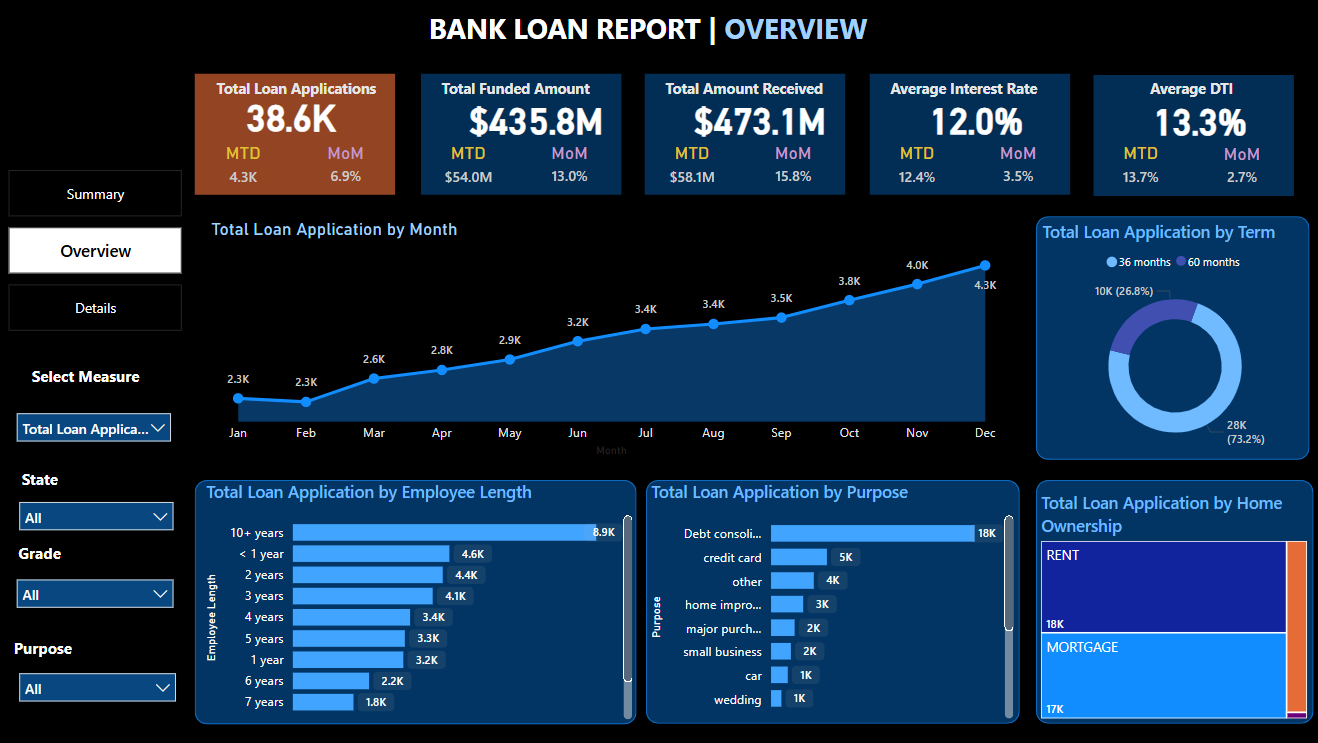

Layout of this report page (visuals, bound fields, positions):
{"tool":"powerbi","page":{"name":"Overview","canvas":[1280,720],"ordinal":1},"visuals":[{"type":"shape","box":[0,55.5,194.2,664.5],"z":0},{"type":"shape","box":[410.2,71.3,193.7,117],"z":0,"group":"g3"},{"type":"shape","box":[626.7,71.3,193.7,117],"z":0,"group":"g4"},{"type":"shape","box":[843.2,71.3,193.7,117],"z":0,"group":"g5"},{"type":"shape","box":[192.3,71.4,193.7,117],"z":0,"group":"g1"},{"type":"shape","box":[1059.7,71.9,193.7,117],"z":0,"group":"g6"},{"type":"shape","box":[0,0,1280.3,55],"z":1000},{"type":"card","fields":{"Values":["bank_loan_data.Total Loan Application"]},"box":[228.8,76.7,113.6,69.9],"z":1000,"group":"g1"},{"type":"card","fields":{"Values":["bank_loan_data.Total Funded Amount"]},"box":[447.1,82,147.9,64.6],"z":1000,"group":"g3"},{"type":"card","fields":{"Values":["bank_loan_data.Total Amount Received"]},"box":[663.6,82,147.9,64.6],"z":1000,"group":"g4"},{"type":"card","fields":{"Values":["bank_loan_data.Avg Interest Rate"]},"box":[872.1,82.5,147.9,64.6],"z":1000,"group":"g5"},{"type":"card","fields":{"Values":["bank_loan_data.Avg DTI"]},"box":[1088.6,83.1,147.9,64.6],"z":1000,"group":"g6"},{"type":"textbox","box":[204.7,71.3,197.8,40.3],"z":2000,"group":"g1"},{"type":"textbox","box":[420.9,71.3,197.8,40.3],"z":2000,"group":"g3"},{"type":"textbox","box":[637.4,71.3,197.8,40.3],"z":2000,"group":"g4"},{"type":"textbox","box":[853.9,71.3,197.8,40.3],"z":2000,"group":"g5"},{"type":"textbox","box":[1070.1,71.3,169.4,40.3],"z":2000,"group":"g6"},{"type":"textbox","box":[21.7,347.3,136.3,41],"z":2000,"group":"g8"},{"type":"textbox","box":[12.1,447.4,95.3,31.4],"z":2000,"group":"g7"},{"type":"textbox","box":[12.1,517.4,83.2,31.4],"z":2000},{"type":"card","title":"MTD","fields":{"Values":["bank_loan_data.MTD Loan Applications"]},"box":[204.7,137.2,69.5,51.1],"z":3000,"group":"g1"},{"type":"card","title":"MTD","fields":{"Values":["bank_loan_data.MTD Funded Applications"]},"box":[420.9,137.2,69.5,51.1],"z":3000,"group":"g3"},{"type":"card","title":"MTD","fields":{"Values":["bank_loan_data.MTD Total Amount Received"]},"box":[637.4,137.2,69.5,51.1],"z":3000,"group":"g4"},{"type":"card","title":"MTD","fields":{"Values":["bank_loan_data.MTD Average Interest Rate"]},"box":[853.9,137.2,69.5,51.1],"z":3000,"group":"g5"},{"type":"card","title":"MTD","fields":{"Values":["bank_loan_data.MTD Average DTI"]},"box":[1070.4,137.8,69.5,51.1],"z":3000,"group":"g6"},{"type":"textbox","box":[9.6,607.8,156.8,31.4],"z":3000},{"type":"group","id":"g1","title":"Group 2","box":[192.3,71.3,210.2,117.1],"z":3005,"group":"g2"},{"type":"card","title":"MoM","fields":{"Values":["bank_loan_data.MoM Loan Applications"]},"box":[303,138.2,69.5,49.8],"z":4000,"group":"g1"},{"type":"card","title":"MoM","fields":{"Values":["bank_loan_data.MoM Total Funded Amount"]},"box":[519.1,138.2,69.5,49.8],"z":4000,"group":"g3"},{"type":"card","title":"MoM","fields":{"Values":["bank_loan_data.MoM Total Amount Received"]},"box":[735.6,138.2,69.5,49.8],"z":4000,"group":"g4"},{"type":"card","title":"MoM","fields":{"Values":["bank_loan_data.MoM Average Interest Rate"]},"box":[952.1,138.2,69.5,49.8],"z":4000,"group":"g5"},{"type":"card","title":"MoM","fields":{"Values":["bank_loan_data.MoM Average DTI"]},"box":[1168.6,138.9,69.5,49.8],"z":4000,"group":"g6"},{"type":"shape","box":[194.3,208.6,400,235],"z":4000},{"type":"esriVisual","fields":{"Size":["bank_loan_data.Total Amount Received"],"Location":["bank_loan_data.address_state"]},"box":[627.1,209.8,359.4,237.6],"z":5000},{"type":"textbox","box":[412.9,4,520.4,45.7],"z":6000},{"type":"group","id":"g2","title":"Group 1","box":[192.3,71.3,210.2,117.1],"z":7000},{"type":"group","id":"g3","title":"Group 2","box":[410.2,71.3,208.4,117],"z":8000},{"type":"group","id":"g4","title":"Group 2","box":[626.7,71.3,208.4,117],"z":9000},{"type":"group","id":"g5","title":"Group 2","box":[843.2,71.3,208.4,117],"z":10000},{"type":"group","id":"g6","title":"Group 2","box":[1059.7,71.3,193.7,117],"z":11000},{"type":"slicer","fields":{"Values":["bank_loan_data.address_state"]},"box":[12.1,474,168.8,43.4],"z":12000},{"type":"slicer","fields":{"Values":["bank_loan_data.grade"]},"box":[9.6,548.7,171.3,44.6],"z":13000},{"type":"slicer","fields":{"Values":["bank_loan_data.Good Vs Bad Loan"]},"box":[12.1,639.2,171.3,44.6],"z":14000},{"type":"group","id":"g7","title":"Group 2","box":[12.1,447.4,95.3,31.4],"z":15000},{"type":"areaChart","fields":{"Y":["bank_loan_data.Total Amount Received"],"Category":["Date Table.Month"]},"box":[202.6,211.1,378.7,235.2],"z":16000},{"type":"slicer","fields":{"Values":["Select Measure.Select Measure"]},"box":[9.6,388.3,168.8,43.4],"z":17000},{"type":"group","id":"g8","title":"Group 2","box":[21.7,347.3,136.3,41],"z":18000},{"type":"shape","box":[618.7,209.8,360.6,235.2],"z":19000},{"type":"shape","box":[1003.4,208.6,264.1,235.2],"z":20000},{"type":"donutChart","fields":{"Y":["bank_loan_data.Total Amount Received"],"Category":["bank_loan_data.term"]},"box":[1004.6,212.3,266.5,232.8],"z":21000},{"type":"shape","box":[191.8,463.1,400.4,235.2],"z":22000},{"type":"barChart","fields":{"Y":["bank_loan_data.Total Amount Received"],"Category":["bank_loan_data.emp_length"]},"box":[197.8,463.1,390.8,235.2],"z":23000},{"type":"shape","box":[627.1,463.1,360.6,235.2],"z":24000},{"type":"barChart","fields":{"Y":["bank_loan_data.Total Amount Received"],"Category":["bank_loan_data.purpose"]},"box":[627.1,463.1,359.4,235.2],"z":25000},{"type":"shape","box":[1003.4,463.1,267.7,235.2],"z":26000},{"type":"treemap","fields":{"Values":["bank_loan_data.Total Amount Received"],"Group":["bank_loan_data.home_ownership"]},"box":[1003.4,474,266.5,224.3],"z":27000},{"type":"pageNavigator","box":[12.1,164,168.8,158],"z":28000},{"type":"filledMap","title":"Total Loan Application by Address State","fields":{"Y":["bank_loan_data.Total Amount Received"],"Category":["bank_loan_data.address_state"]},"box":[623.5,219.5,352.2,211.1],"z":29000}]}

Visuals, with their boxes in screenshot pixels (x1, y1, x2, y2), scaled from the page's 1280x720 canvas onto the 1318x743 screenshot:
shape: pyautogui.locateOnScreen(0, 57, 200, 742)
shape: pyautogui.locateOnScreen(422, 74, 622, 194)
shape: pyautogui.locateOnScreen(645, 74, 845, 194)
shape: pyautogui.locateOnScreen(868, 74, 1068, 194)
shape: pyautogui.locateOnScreen(198, 74, 397, 194)
shape: pyautogui.locateOnScreen(1091, 74, 1291, 195)
shape: pyautogui.locateOnScreen(0, 0, 1317, 57)
card - bank_loan_data.Total Loan Application: pyautogui.locateOnScreen(236, 79, 353, 151)
card - bank_loan_data.Total Funded Amount: pyautogui.locateOnScreen(460, 85, 613, 151)
card - bank_loan_data.Total Amount Received: pyautogui.locateOnScreen(683, 85, 836, 151)
card - bank_loan_data.Avg Interest Rate: pyautogui.locateOnScreen(898, 85, 1050, 152)
card - bank_loan_data.Avg DTI: pyautogui.locateOnScreen(1121, 86, 1273, 152)
textbox: pyautogui.locateOnScreen(211, 74, 414, 115)
textbox: pyautogui.locateOnScreen(433, 74, 637, 115)
textbox: pyautogui.locateOnScreen(656, 74, 860, 115)
textbox: pyautogui.locateOnScreen(879, 74, 1083, 115)
textbox: pyautogui.locateOnScreen(1102, 74, 1276, 115)
textbox: pyautogui.locateOnScreen(22, 358, 163, 401)
textbox: pyautogui.locateOnScreen(12, 462, 111, 494)
textbox: pyautogui.locateOnScreen(12, 534, 98, 566)
"MTD" card: pyautogui.locateOnScreen(211, 142, 282, 194)
"MTD" card: pyautogui.locateOnScreen(433, 142, 505, 194)
"MTD" card: pyautogui.locateOnScreen(656, 142, 728, 194)
"MTD" card: pyautogui.locateOnScreen(879, 142, 951, 194)
"MTD" card: pyautogui.locateOnScreen(1102, 142, 1174, 195)
textbox: pyautogui.locateOnScreen(10, 627, 171, 660)
"Group 2" group: pyautogui.locateOnScreen(198, 74, 414, 194)
"MoM" card: pyautogui.locateOnScreen(312, 143, 384, 194)
"MoM" card: pyautogui.locateOnScreen(535, 143, 606, 194)
"MoM" card: pyautogui.locateOnScreen(757, 143, 829, 194)
"MoM" card: pyautogui.locateOnScreen(980, 143, 1052, 194)
"MoM" card: pyautogui.locateOnScreen(1203, 143, 1275, 195)
shape: pyautogui.locateOnScreen(200, 215, 612, 458)
esriVisual - bank_loan_data.Total Amount Received x bank_loan_data.address_state: pyautogui.locateOnScreen(646, 217, 1016, 462)
textbox: pyautogui.locateOnScreen(425, 4, 961, 51)
"Group 1" group: pyautogui.locateOnScreen(198, 74, 414, 194)
"Group 2" group: pyautogui.locateOnScreen(422, 74, 637, 194)
"Group 2" group: pyautogui.locateOnScreen(645, 74, 860, 194)
"Group 2" group: pyautogui.locateOnScreen(868, 74, 1083, 194)
"Group 2" group: pyautogui.locateOnScreen(1091, 74, 1291, 194)
slicer - bank_loan_data.address_state: pyautogui.locateOnScreen(12, 489, 186, 534)
slicer - bank_loan_data.grade: pyautogui.locateOnScreen(10, 566, 186, 612)
slicer - bank_loan_data.Good Vs Bad Loan: pyautogui.locateOnScreen(12, 660, 189, 706)
"Group 2" group: pyautogui.locateOnScreen(12, 462, 111, 494)
areaChart - bank_loan_data.Total Amount Received x Date Table.Month: pyautogui.locateOnScreen(209, 218, 599, 461)
slicer - Select Measure.Select Measure: pyautogui.locateOnScreen(10, 401, 184, 445)
"Group 2" group: pyautogui.locateOnScreen(22, 358, 163, 401)
shape: pyautogui.locateOnScreen(637, 217, 1008, 459)
shape: pyautogui.locateOnScreen(1033, 215, 1305, 458)
donutChart - bank_loan_data.Total Amount Received x bank_loan_data.term: pyautogui.locateOnScreen(1034, 219, 1309, 459)
shape: pyautogui.locateOnScreen(197, 478, 610, 721)
barChart - bank_loan_data.Total Amount Received x bank_loan_data.emp_length: pyautogui.locateOnScreen(204, 478, 606, 721)
shape: pyautogui.locateOnScreen(646, 478, 1017, 721)
barChart - bank_loan_data.Total Amount Received x bank_loan_data.purpose: pyautogui.locateOnScreen(646, 478, 1016, 721)
shape: pyautogui.locateOnScreen(1033, 478, 1309, 721)
treemap - bank_loan_data.Total Amount Received x bank_loan_data.home_ownership: pyautogui.locateOnScreen(1033, 489, 1308, 721)
pageNavigator: pyautogui.locateOnScreen(12, 169, 186, 332)
"Total Loan Application by Address State" filledMap: pyautogui.locateOnScreen(642, 227, 1005, 444)
